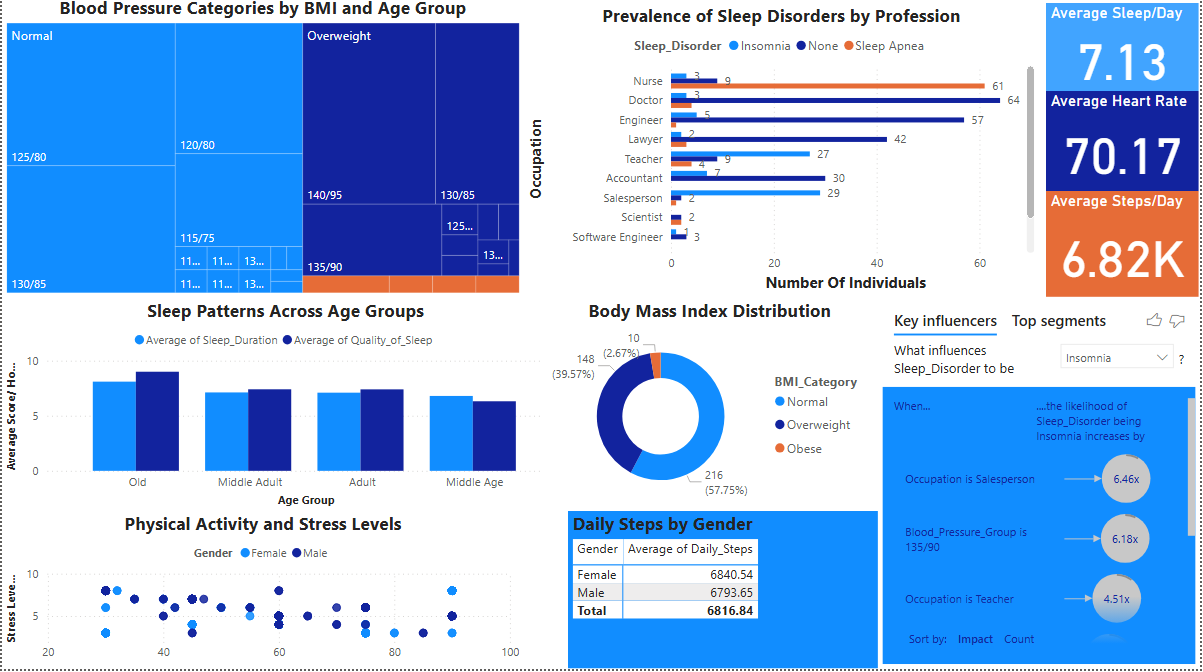

Layout of this report page (visuals, bound fields, positions):
{"tool":"powerbi","page":{"name":"Page 1","canvas":[1280,720],"ordinal":0},"visuals":[{"type":"clusteredBarChart","title":"Prevalence of Sleep Disorders by Profession","fields":{"Y":["CountNonNull(Sleep_health_and_lifestyle_dataset.Person ID)"],"Category":["Sleep_health_and_lifestyle_dataset.Occupation"],"Series":["Sleep_health_and_lifestyle_dataset.Sleep Disorder"]},"box":[557.1,9.1,565.1,303],"z":0},{"type":"clusteredColumnChart","title":"Sleep Patterns Across Age Groups","fields":{"Category":["Sleep_health_and_lifestyle_dataset.Age Group"],"Y":["Avg(Sleep_health_and_lifestyle_dataset.Sleep Duration)","Avg(Sleep_health_and_lifestyle_dataset.Quality of Sleep)"]},"box":[0,323.5,543.4,216.5],"z":1000},{"type":"donutChart","title":"Body Mass Index Distribution","fields":{"Category":["Sleep_health_and_lifestyle_dataset.BMI Category"],"Y":["CountNonNull(Sleep_health_and_lifestyle_dataset.Person ID)"]},"box":[557.1,323.5,370.3,216.5],"z":2000},{"type":"scatterChart","title":"Physical Activity and Stress Levels","fields":{"X":["Avg(Sleep_health_and_lifestyle_dataset.Physical Activity Level)"],"Y":["Avg(Sleep_health_and_lifestyle_dataset.Stress Level)"],"Series":["Sleep_health_and_lifestyle_dataset.Gender"],"Category":["Sleep_health_and_lifestyle_dataset.Person ID"]},"box":[0,550.3,543.4,160.6],"z":3000},{"type":"treemap","title":"Blood Pressure Categories by BMI and Age Group","fields":{"Group":["Sleep_health_and_lifestyle_dataset.BMI Category","Sleep_health_and_lifestyle_dataset.Gender"],"Details":["Sleep_health_and_lifestyle_dataset.Blood Pressure Group"],"Values":["CountNonNull(Sleep_health_and_lifestyle_dataset.Person ID)"]},"box":[0,9.1,543.4,303],"z":4000},{"type":"pieChart","title":"Daily Steps by Gender","fields":{"Category":["Sleep_health_and_lifestyle_dataset.Gender"],"Y":["Avg(Sleep_health_and_lifestyle_dataset.Daily_Steps)"]},"box":[557.1,550.3,370.3,160.6],"z":5000},{"type":"card","title":"😴 Sleep Disorders","fields":{"Values":["Sleep_health_and_lifestyle_dataset.Sleep Disorder %"]},"box":[1131.3,9.1,149.2,68.4],"z":6000},{"type":"keyDriversVisual","fields":{"Target":["Sleep_health_and_lifestyle_dataset.Sleep Disorder"],"ExplainBy":["Sleep_health_and_lifestyle_dataset.Occupation","Sleep_health_and_lifestyle_dataset.BMI Category","CountNonNull(Sleep_health_and_lifestyle_dataset.Stress Level)","Sum(Sleep_health_and_lifestyle_dataset.Physical Activity Level)","Sleep_health_and_lifestyle_dataset.Age Group","Sleep_health_and_lifestyle_dataset.Blood Pressure Group","Sleep_health_and_lifestyle_dataset.Gender"]},"box":[935.3,323.5,345.2,387.3],"z":7000},{"type":"card","title":"⭐ Sleep Quality","fields":{"Values":["Avg(Sleep_health_and_lifestyle_dataset.Quality_of_Sleep)"]},"box":[1131.3,85.4,149.2,75.2],"z":8000},{"type":"card","title":"⚠️ High Risk %  ","fields":{"Values":["Sleep_health_and_lifestyle_dataset.High Risk %"]},"box":[1131.3,168.6,149.2,64.9],"z":9000},{"type":"card","title":"🏃 Active People","fields":{"Values":["Sleep_health_and_lifestyle_dataset.Active Lifestyle Count"]},"box":[1131.3,241.5,149.2,70.6],"z":9001}]}

Visuals, with their boxes in screenshot pixels (x1, y1, x2, y2), scaled from the page's 1280x720 canvas onto the 1203x672 screenshot:
"Prevalence of Sleep Disorders by Profession" clusteredBarChart: {"x1": 524, "y1": 8, "x2": 1055, "y2": 291}
"Sleep Patterns Across Age Groups" clusteredColumnChart: {"x1": 0, "y1": 302, "x2": 511, "y2": 504}
"Body Mass Index Distribution" donutChart: {"x1": 524, "y1": 302, "x2": 872, "y2": 504}
"Physical Activity and Stress Levels" scatterChart: {"x1": 0, "y1": 514, "x2": 511, "y2": 664}
"Blood Pressure Categories by BMI and Age Group" treemap: {"x1": 0, "y1": 8, "x2": 511, "y2": 291}
"Daily Steps by Gender" pieChart: {"x1": 524, "y1": 514, "x2": 872, "y2": 664}
"😴 Sleep Disorders" card: {"x1": 1063, "y1": 8, "x2": 1202, "y2": 72}
keyDriversVisual - Sleep_health_and_lifestyle_dataset.Sleep Disorder x Sleep_health_and_lifestyle_dataset.Occupation: {"x1": 879, "y1": 302, "x2": 1202, "y2": 663}
"⭐ Sleep Quality" card: {"x1": 1063, "y1": 80, "x2": 1202, "y2": 150}
"⚠️ High Risk %  " card: {"x1": 1063, "y1": 157, "x2": 1202, "y2": 218}
"🏃 Active People" card: {"x1": 1063, "y1": 225, "x2": 1202, "y2": 291}
